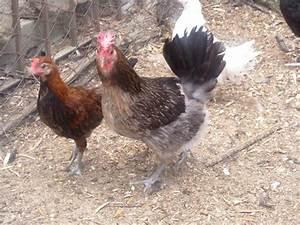hen: (93, 23, 226, 195), (28, 50, 104, 176)
